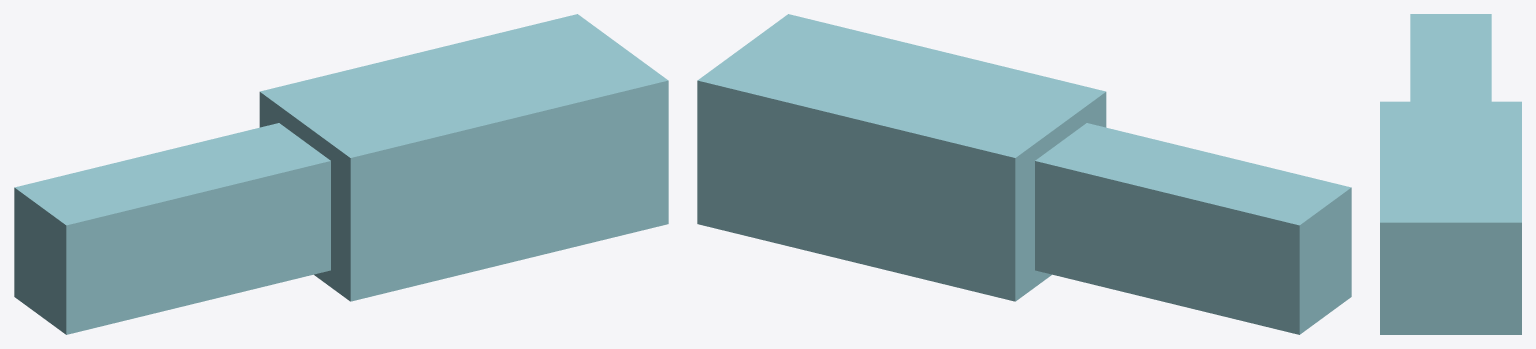
Rendered from cuboid_brush_v8005.obj.
3 renders of one model, left to right at view 1: azimuth 30°, elevation 25°; view 2: azimuth 150°, elevation 25°; view 3: azimuth 270°, elevation 25°, orthographic. The views are drawn at different scales.
Bounding box in the file's own units: 0.1317 × 0.031 × 0.0356.
1 material, 1 textured.
